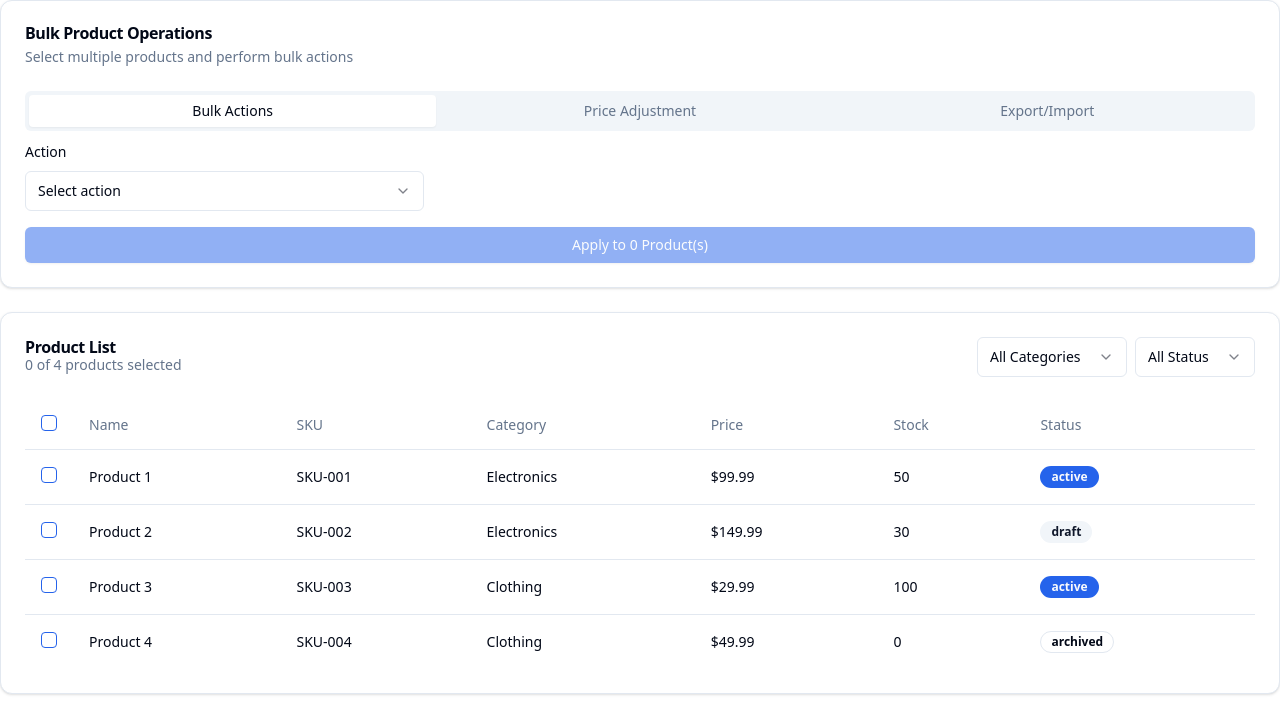
Test case: BulkProductOperations › Product Selection › should deselect products
Click the checkbox next to "Product 1". click: (49, 474)
box: [41, 466, 57, 482]
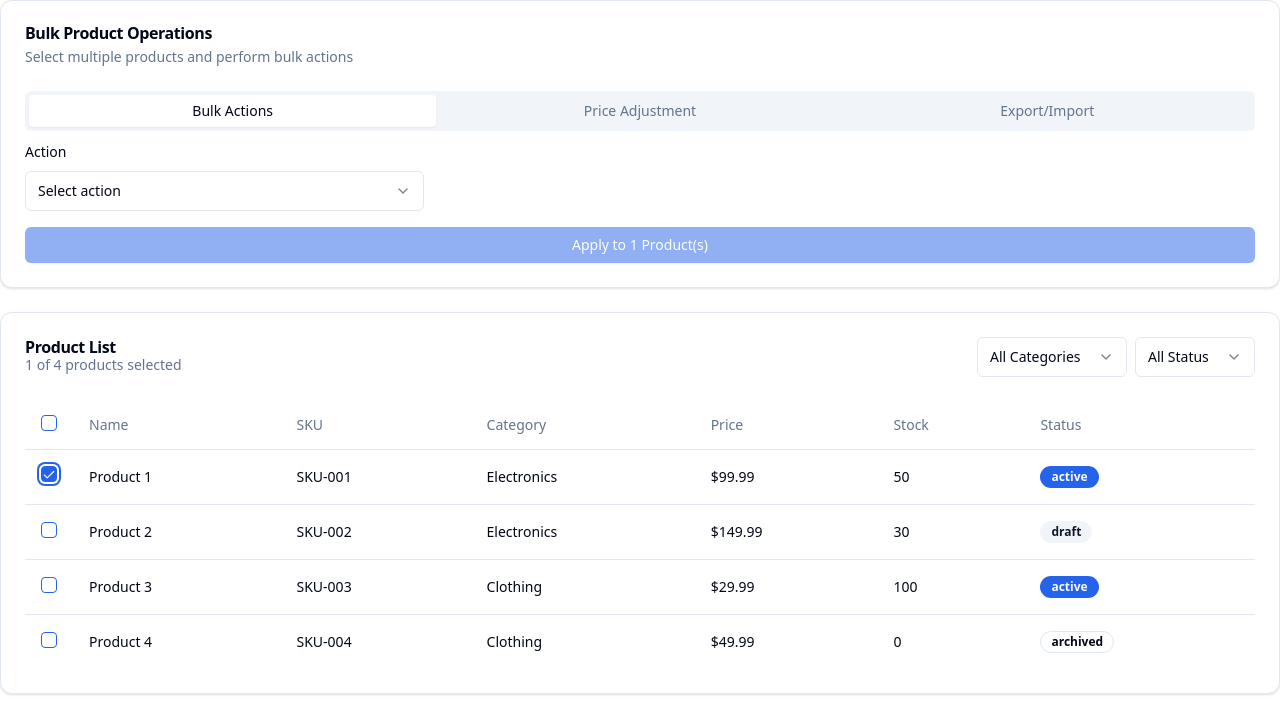
Check: the text "1 of 4 products selected" is shown, box [25, 355, 182, 375]
Click the checkbox next to "Product 1". click: (49, 474)
box: [41, 466, 57, 482]
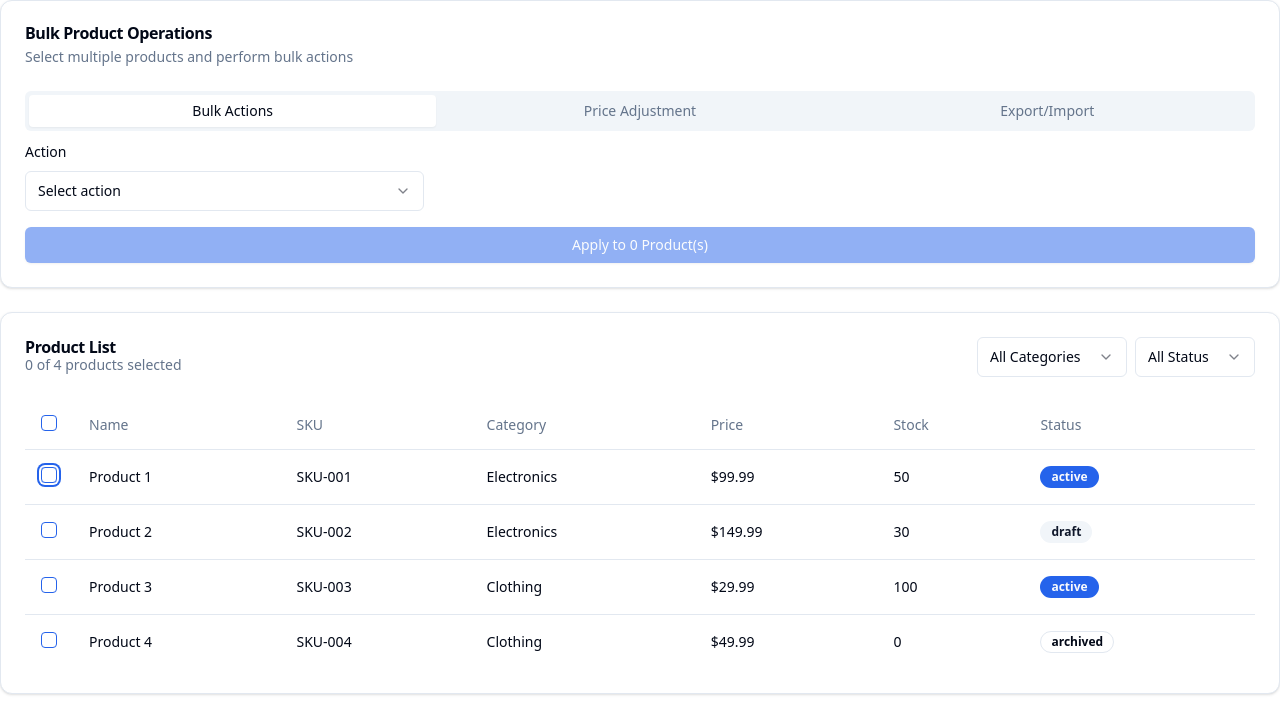
Check: the text "0 of 4 products selected" is shown, box [25, 355, 182, 375]
